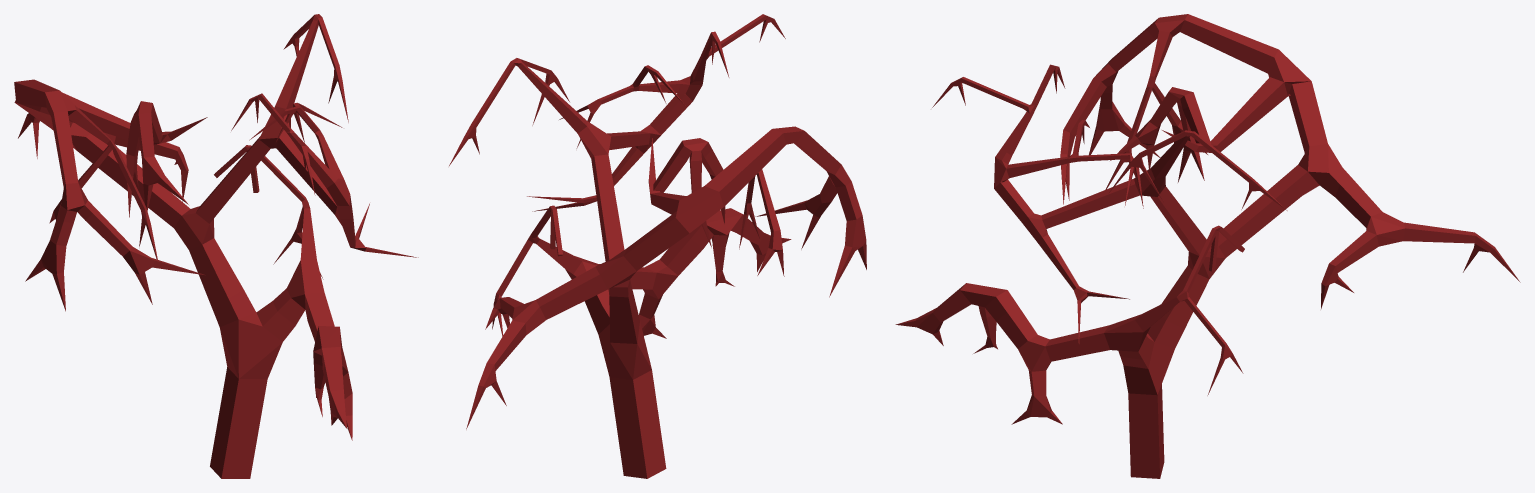
File: plantdebois.fbx
3 renders of one model, left to right at view 1: azimuth 30°, elevation 25°; view 2: azimuth 150°, elevation 25°; view 3: azimuth 270°, elevation 25°, orthographic. The views are drawn at different scales.
Parts seen in each view (by area): view 1: AlienPlantB; view 2: AlienPlantB; view 3: AlienPlantB.
Boxes of the visible parts, x1,y1,x2,y2 form: AlienPlantB: (14, 14, 418, 478); AlienPlantB: (449, 14, 866, 478); AlienPlantB: (895, 14, 1520, 478).
Bounding box in the file's own units: 256 × 291 × 415.
